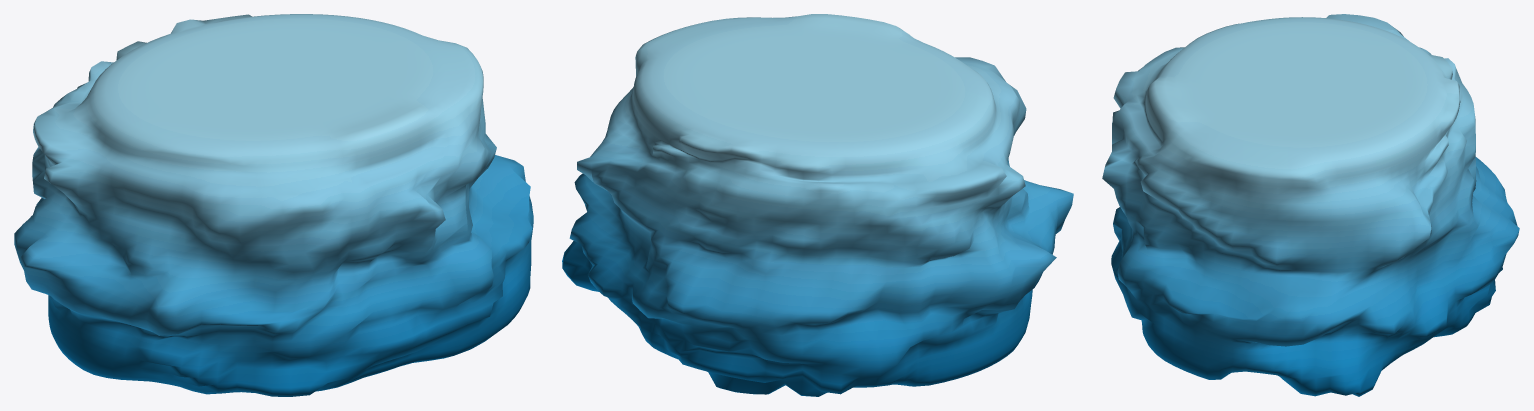
The model's file is Glaciar 2.fbx.
3 renders of one model, left to right at view 1: azimuth 30°, elevation 25°; view 2: azimuth 150°, elevation 25°; view 3: azimuth 270°, elevation 25°, orthographic. The views are drawn at different scales.
Parts seen in each view (by area): view 1: Glaciar_2; view 2: Glaciar_2; view 3: Glaciar_2.
Boxes of the visible parts, left/top/right/bottom form: Glaciar_2: left=14, top=14, right=533, bottom=396; Glaciar_2: left=562, top=14, right=1073, bottom=396; Glaciar_2: left=1102, top=14, right=1519, bottom=396.
Size of the model in its own units: 19.47 by 9.49 by 15.84.
